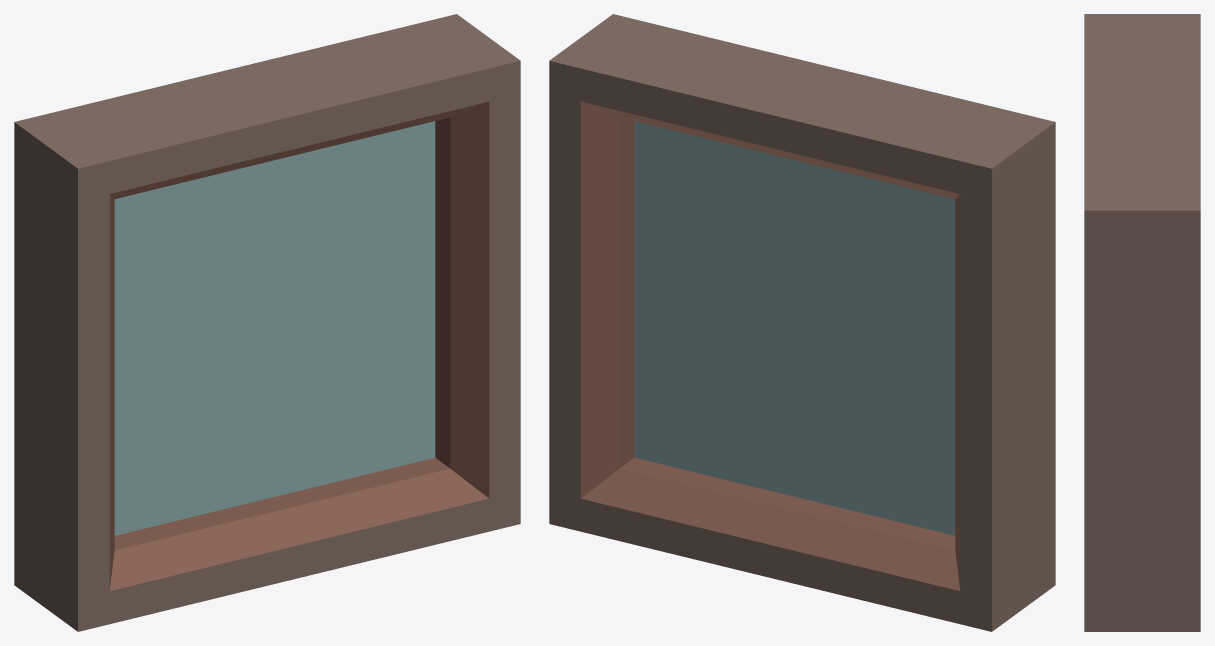
File: window.fbx
The picture shows the model from 3 angles, left to right: view 1: azimuth 30°, elevation 25°; view 2: azimuth 150°, elevation 25°; view 3: azimuth 270°, elevation 25°; orthographic projection. The views are drawn at different scales.
Parts seen in each view (by area): view 1: Cube; view 2: Cube; view 3: Cube.
Part boxes in pixels (x1,y1,x2,y2): Cube: (14,14,520,631); Cube: (549,14,1055,631); Cube: (1084,14,1200,631).
Size of the model in its own units: 200 by 200 by 50.
